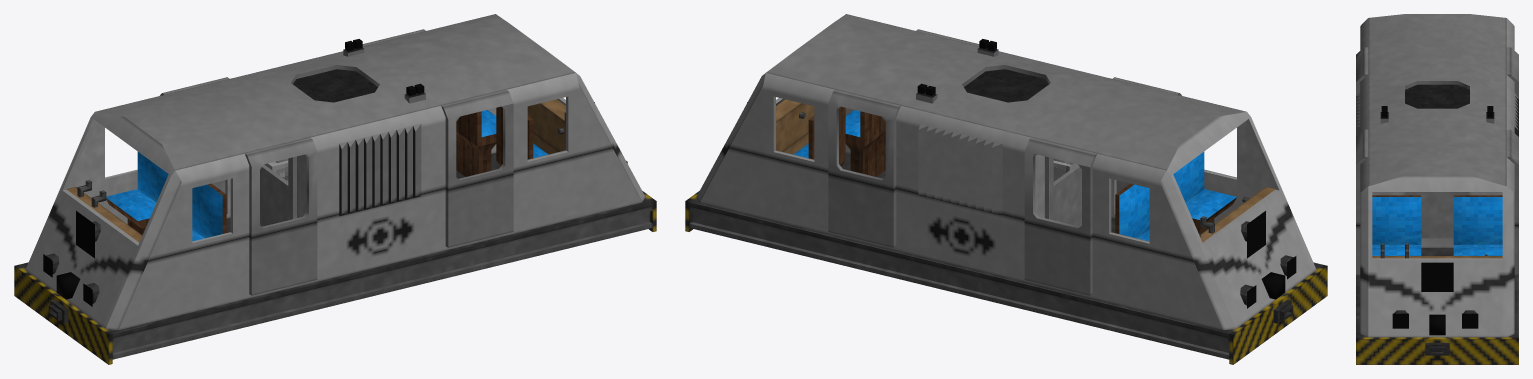
File: kitsune_elysia_mk2_javelin_locomotive.obj
3 views of the same model, side by side, from view 1: azimuth 30°, elevation 25°; view 2: azimuth 150°, elevation 25°; view 3: azimuth 270°, elevation 25° (orthographic). The views are drawn at different scales.
Visible parts, largest first — view 1: FRAME_0_body.ext, FRAME_0_body.ext.001, FRAME_0_body.ext.002, DOOR_5_EXTERNAL_TOGGLE_TL_-1_X, DOOR_7_EXTERNAL_TOGGLE_TL_1_X, FRAME_0_body.grilles, FRAME_3, FRAME_2, FRAME_1, FRAME_end1, FRAME_0_body.int.001, FRAME_bench.003 (+9 smaller); view 2: FRAME_0_body.ext, FRAME_0_body.ext.001, FRAME_0_body.ext.002, DOOR_6_EXTERNAL_TOGGLE_TL_-1_X, DOOR_8_EXTERNAL_TOGGLE_TL_1_X, FRAME_0_body.grilles, FRAME_3, FRAME_2, FRAME_1, FRAME_end1, FRAME_0_body.int.001, FRAME_bench.002 (+9 smaller); view 3: FRAME_0_body.ext.002, FRAME_0_body.ext, FRAME_end2, FRAME_0_body.ext.001, FRAME_bench.003, FRAME_bench.002, DOOR_4_TL_-0.625_Z, HEADLIGHT_4_0xFFF0E1_LCG_REVERSERBACKWARD, DOOR_7_EXTERNAL_TOGGLE_TL_1_X, DOOR_8_EXTERNAL_TOGGLE_TL_1_X, FRAME_0_body.int, FRAME_3 (+9 smaller).
Part boxes in pixels (left/top/right/bottom): FRAME_0_body.ext: left=165, top=31, right=511, bottom=298; FRAME_0_body.ext.001: left=25, top=95, right=249, bottom=330; FRAME_0_body.ext.002: left=427, top=14, right=645, bottom=234; DOOR_5_EXTERNAL_TOGGLE_TL_-1_X: left=245, top=137, right=317, bottom=295; DOOR_7_EXTERNAL_TOGGLE_TL_1_X: left=441, top=90, right=513, bottom=247; FRAME_0_body.grilles: left=339, top=124, right=421, bottom=216; FRAME_3: left=456, top=153, right=617, bottom=274; FRAME_2: left=226, top=217, right=460, bottom=312; FRAME_1: left=145, top=230, right=304, bottom=350; FRAME_end1: left=14, top=262, right=147, bottom=364; FRAME_0_body.int.001: left=67, top=121, right=137, bottom=224; FRAME_bench.003: left=456, top=110, right=496, bottom=176; FRAME_0_body.ext: left=830, top=31, right=1176, bottom=298; FRAME_0_body.ext.001: left=1092, top=95, right=1316, bottom=330; FRAME_0_body.ext.002: left=696, top=14, right=914, bottom=234; DOOR_6_EXTERNAL_TOGGLE_TL_-1_X: left=1024, top=137, right=1096, bottom=295; DOOR_8_EXTERNAL_TOGGLE_TL_1_X: left=828, top=90, right=900, bottom=247; FRAME_0_body.grilles: left=918, top=124, right=1002, bottom=216; FRAME_3: left=724, top=153, right=885, bottom=274; FRAME_2: left=881, top=217, right=1115, bottom=312; FRAME_1: left=1037, top=230, right=1196, bottom=350; FRAME_end1: left=1194, top=262, right=1327, bottom=364; FRAME_0_body.int.001: left=1204, top=121, right=1274, bottom=223; FRAME_bench.002: left=845, top=110, right=885, bottom=176; FRAME_0_body.ext.002: left=1360, top=150, right=1514, bottom=337; FRAME_0_body.ext: left=1360, top=39, right=1514, bottom=156; FRAME_end2: left=1356, top=323, right=1518, bottom=364; FRAME_0_body.ext.001: left=1360, top=14, right=1514, bottom=50; FRAME_bench.003: left=1453, top=195, right=1502, bottom=255; FRAME_bench.002: left=1372, top=195, right=1421, bottom=255; DOOR_4_TL_-0.625_Z: left=1405, top=192, right=1469, bottom=238; HEADLIGHT_4_0xFFF0E1_LCG_REVERSERBACKWARD: left=1421, top=262, right=1453, bottom=291; DOOR_7_EXTERNAL_TOGGLE_TL_1_X: left=1356, top=129, right=1368, bottom=275; DOOR_8_EXTERNAL_TOGGLE_TL_1_X: left=1506, top=129, right=1518, bottom=275; FRAME_0_body.int: left=1372, top=192, right=1502, bottom=247; FRAME_3: left=1356, top=275, right=1518, bottom=322.
Size of the model in its own units: 8.62 by 2.86 by 2.5.
9 materials, 9 textured.
